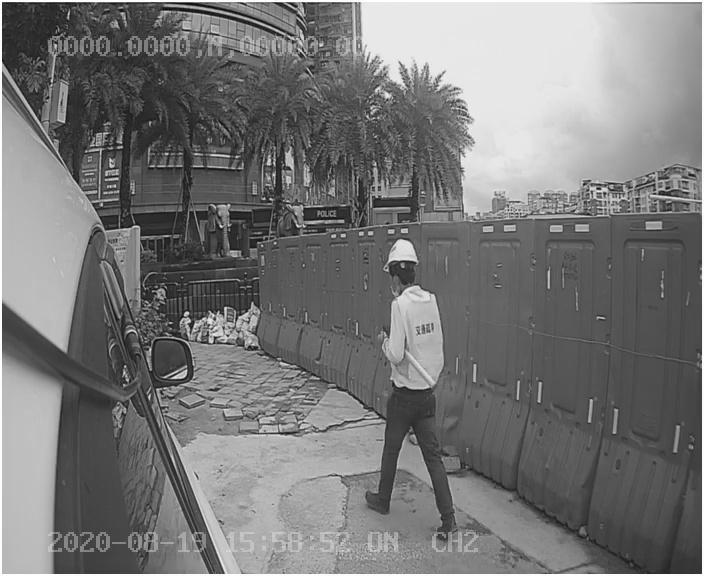person: (362, 234, 485, 523)
